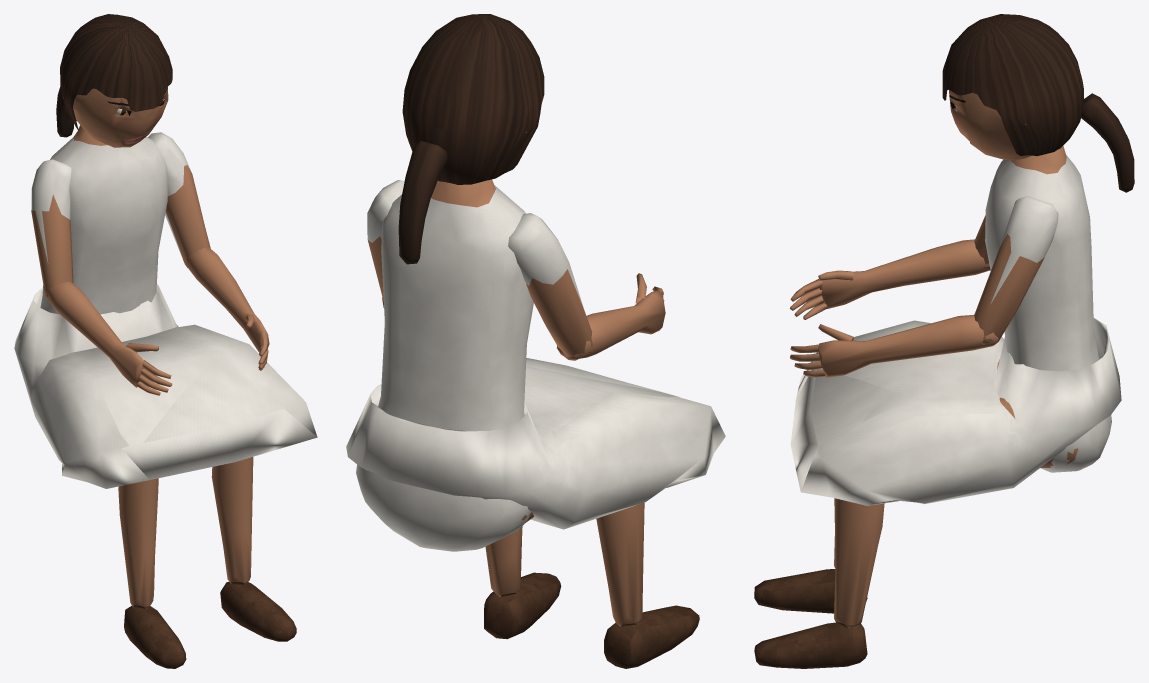
Rendered from persona_nina_sentada_lod.obj.
The picture shows the model from 3 angles, left to right: view 1: azimuth 30°, elevation 25°; view 2: azimuth 150°, elevation 25°; view 3: azimuth 270°, elevation 25°; orthographic projection. The views are drawn at different scales.
Parts seen in each view (by area): view 1: persona_nina_sentada; view 2: persona_nina_sentada; view 3: persona_nina_sentada.
Boxes of the visible parts, x1=… form: persona_nina_sentada: x1=14, y1=14, x2=317, y2=668; persona_nina_sentada: x1=346, y1=14, x2=725, y2=668; persona_nina_sentada: x1=754, y1=14, x2=1134, y2=668.
Size of the model in its own units: 0.4036 by 0.8974 by 0.499.
10 materials, 10 textured.
